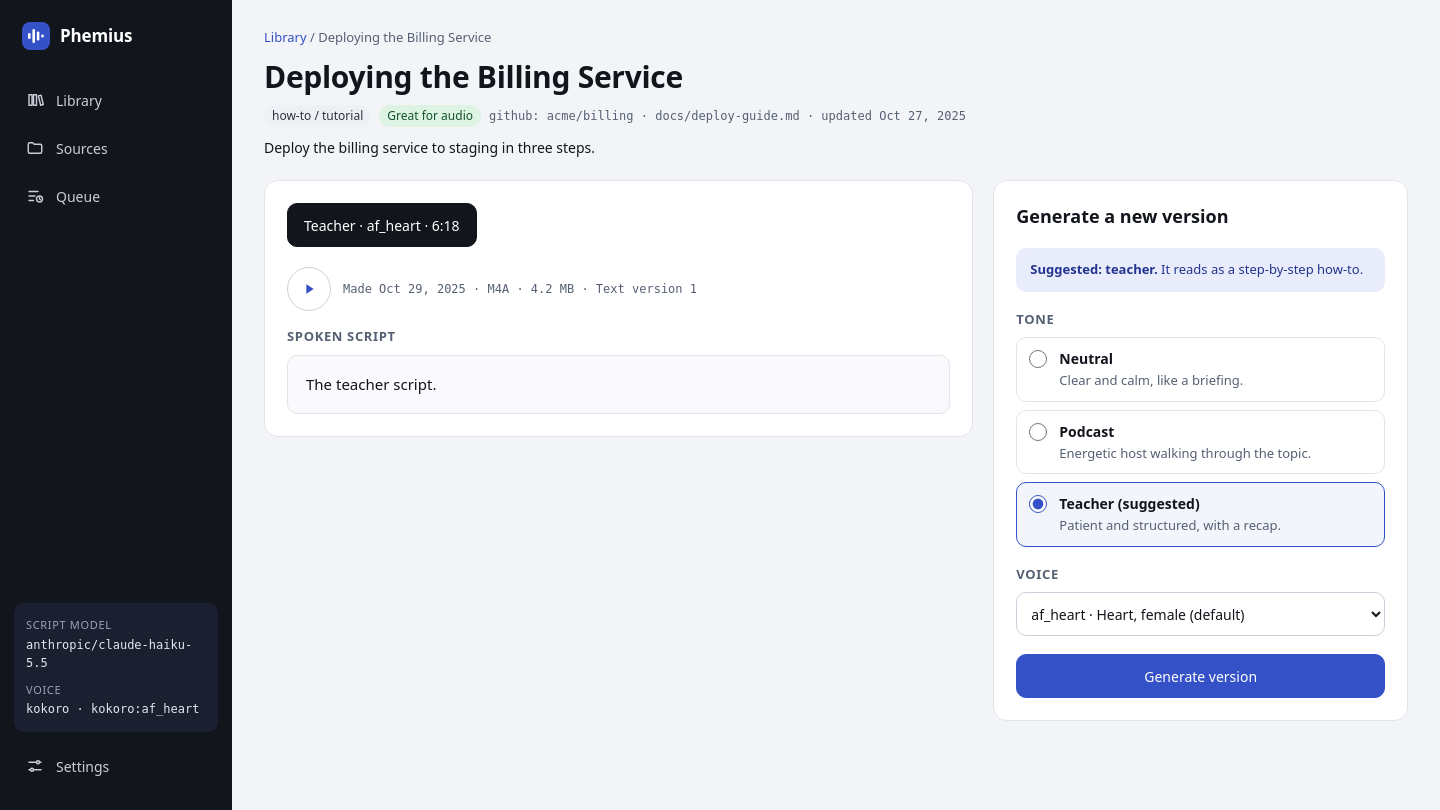
Test case: generating a version › explains why a version could not be queued
Expected: the heading "Deploying the Billing Service" is shown, x1=264 y1=56 x2=683 y2=96
Expected: the radio button labelled "Teacher (suggested) Patient and structured, with a recap." is shown, x1=1029 y1=495 x2=1047 y2=513
Click the button "Generate version" at (1201, 676), box x1=1016 y1=654 x2=1385 y2=698
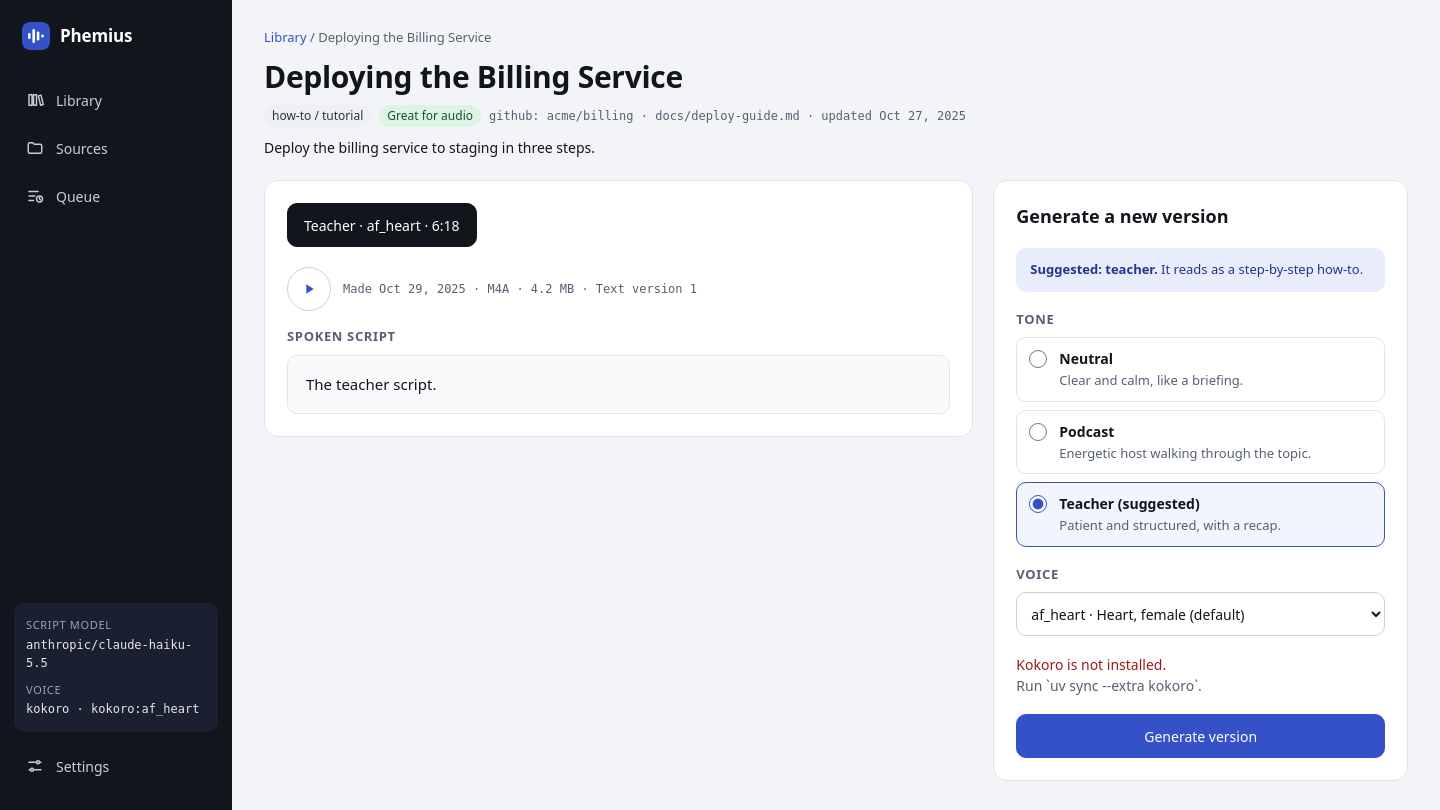
Expected: the message shows "Kokoro is not installed.", x1=1016 y1=655 x2=1166 y2=674
Expected: the message shows "Run `uv sync --extra kokoro`.", x1=1016 y1=676 x2=1202 y2=695
